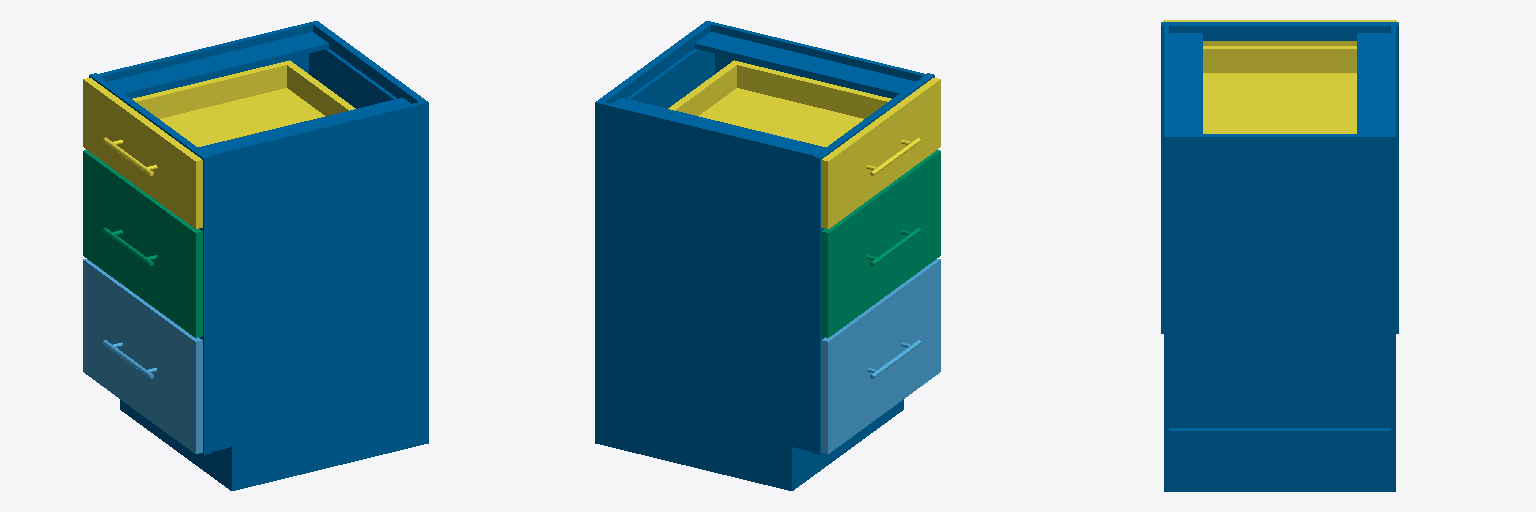
URDF robot description (partnet_1d973f05e870af4b4da5feafe6f1c8fc):
<?xml version="1.0" ?>
<robot name="partnet_1d973f05e870af4b4da5feafe6f1c8fc">
	<link name="base"/>
	<link name="link_0">
		<visual name="drawer_front-31">
			<origin xyz="0 0 0"/>
			<geometry>
				<mesh filename="textured_objs/original-26.obj"/>
			</geometry>
		</visual>
		<visual name="drawer_front-31">
			<origin xyz="0 0 0"/>
			<geometry>
				<mesh filename="textured_objs/original-38.obj"/>
			</geometry>
		</visual>
		<visual name="drawer_side-32">
			<origin xyz="0 0 0"/>
			<geometry>
				<mesh filename="textured_objs/original-25.obj"/>
			</geometry>
		</visual>
		<visual name="drawer_side-33">
			<origin xyz="0 0 0"/>
			<geometry>
				<mesh filename="textured_objs/original-30.obj"/>
			</geometry>
		</visual>
		<visual name="drawer_back-34">
			<origin xyz="0 0 0"/>
			<geometry>
				<mesh filename="textured_objs/original-31.obj"/>
			</geometry>
		</visual>
		<visual name="drawer_bottom-35">
			<origin xyz="0 0 0"/>
			<geometry>
				<mesh filename="textured_objs/original-28.obj"/>
			</geometry>
		</visual>
		<visual name="drawer_bottom-35">
			<origin xyz="0 0 0"/>
			<geometry>
				<mesh filename="textured_objs/original-29.obj"/>
			</geometry>
		</visual>
		<visual name="other_leaf-30">
			<origin xyz="0 0 0"/>
			<geometry>
				<mesh filename="textured_objs/original-32.obj"/>
			</geometry>
		</visual>
		<visual name="handle-27">
			<origin xyz="0 0 0"/>
			<geometry>
				<mesh filename="textured_objs/original-35.obj"/>
			</geometry>
		</visual>
		<visual name="handle-27">
			<origin xyz="0 0 0"/>
			<geometry>
				<mesh filename="textured_objs/original-36.obj"/>
			</geometry>
		</visual>
		<visual name="handle-27">
			<origin xyz="0 0 0"/>
			<geometry>
				<mesh filename="textured_objs/original-37.obj"/>
			</geometry>
		</visual>
		<collision>
			<origin xyz="0 0 0"/>
			<geometry>
				<mesh filename="textured_objs/original-26.obj"/>
			</geometry>
		</collision>
		<collision>
			<origin xyz="0 0 0"/>
			<geometry>
				<mesh filename="textured_objs/original-38.obj"/>
			</geometry>
		</collision>
		<collision>
			<origin xyz="0 0 0"/>
			<geometry>
				<mesh filename="textured_objs/original-25.obj"/>
			</geometry>
		</collision>
		<collision>
			<origin xyz="0 0 0"/>
			<geometry>
				<mesh filename="textured_objs/original-30.obj"/>
			</geometry>
		</collision>
		<collision>
			<origin xyz="0 0 0"/>
			<geometry>
				<mesh filename="textured_objs/original-31.obj"/>
			</geometry>
		</collision>
		<collision>
			<origin xyz="0 0 0"/>
			<geometry>
				<mesh filename="textured_objs/original-28.obj"/>
			</geometry>
		</collision>
		<collision>
			<origin xyz="0 0 0"/>
			<geometry>
				<mesh filename="textured_objs/original-29.obj"/>
			</geometry>
		</collision>
		<collision>
			<origin xyz="0 0 0"/>
			<geometry>
				<mesh filename="textured_objs/original-37.obj"/>
			</geometry>
		</collision>
		<collision>
			<origin xyz="0 0 0"/>
			<geometry>
				<mesh filename="textured_objs/original-35.obj"/>
			</geometry>
		</collision>
		<collision>
			<origin xyz="0 0 0"/>
			<geometry>
				<mesh filename="textured_objs/original-36.obj"/>
			</geometry>
		</collision>
		<collision>
			<origin xyz="0 0 0"/>
			<geometry>
				<mesh filename="textured_objs/original-32.obj"/>
			</geometry>
		</collision>
	</link>
	<joint name="joint_0" type="prismatic">
		<origin xyz="0 0 0"/>
		<axis xyz="0 0 1"/>
		<child link="link_0"/>
		<parent link="link_3"/>
		<limit lower="0" upper="0.7"/>
	</joint>
	<link name="link_1">
		<visual name="drawer_front-21">
			<origin xyz="0 0 0"/>
			<geometry>
				<mesh filename="textured_objs/original-54.obj"/>
			</geometry>
		</visual>
		<visual name="drawer_front-21">
			<origin xyz="0 0 0"/>
			<geometry>
				<mesh filename="textured_objs/original-42.obj"/>
			</geometry>
		</visual>
		<visual name="drawer_side-22">
			<origin xyz="0 0 0"/>
			<geometry>
				<mesh filename="textured_objs/original-41.obj"/>
			</geometry>
		</visual>
		<visual name="drawer_side-23">
			<origin xyz="0 0 0"/>
			<geometry>
				<mesh filename="textured_objs/original-46.obj"/>
			</geometry>
		</visual>
		<visual name="drawer_back-24">
			<origin xyz="0 0 0"/>
			<geometry>
				<mesh filename="textured_objs/original-47.obj"/>
			</geometry>
		</visual>
		<visual name="drawer_bottom-25">
			<origin xyz="0 0 0"/>
			<geometry>
				<mesh filename="textured_objs/original-45.obj"/>
			</geometry>
		</visual>
		<visual name="drawer_bottom-25">
			<origin xyz="0 0 0"/>
			<geometry>
				<mesh filename="textured_objs/original-44.obj"/>
			</geometry>
		</visual>
		<visual name="other_leaf-20">
			<origin xyz="0 0 0"/>
			<geometry>
				<mesh filename="textured_objs/original-48.obj"/>
			</geometry>
		</visual>
		<visual name="handle-18">
			<origin xyz="0 0 0"/>
			<geometry>
				<mesh filename="textured_objs/original-51.obj"/>
			</geometry>
		</visual>
		<visual name="handle-18">
			<origin xyz="0 0 0"/>
			<geometry>
				<mesh filename="textured_objs/original-52.obj"/>
			</geometry>
		</visual>
		<visual name="handle-18">
			<origin xyz="0 0 0"/>
			<geometry>
				<mesh filename="textured_objs/original-53.obj"/>
			</geometry>
		</visual>
		<collision>
			<origin xyz="0 0 0"/>
			<geometry>
				<mesh filename="textured_objs/original-54.obj"/>
			</geometry>
		</collision>
		<collision>
			<origin xyz="0 0 0"/>
			<geometry>
				<mesh filename="textured_objs/original-42.obj"/>
			</geometry>
		</collision>
		<collision>
			<origin xyz="0 0 0"/>
			<geometry>
				<mesh filename="textured_objs/original-41.obj"/>
			</geometry>
		</collision>
		<collision>
			<origin xyz="0 0 0"/>
			<geometry>
				<mesh filename="textured_objs/original-46.obj"/>
			</geometry>
		</collision>
		<collision>
			<origin xyz="0 0 0"/>
			<geometry>
				<mesh filename="textured_objs/original-47.obj"/>
			</geometry>
		</collision>
		<collision>
			<origin xyz="0 0 0"/>
			<geometry>
				<mesh filename="textured_objs/original-45.obj"/>
			</geometry>
		</collision>
		<collision>
			<origin xyz="0 0 0"/>
			<geometry>
				<mesh filename="textured_objs/original-44.obj"/>
			</geometry>
		</collision>
		<collision>
			<origin xyz="0 0 0"/>
			<geometry>
				<mesh filename="textured_objs/original-53.obj"/>
			</geometry>
		</collision>
		<collision>
			<origin xyz="0 0 0"/>
			<geometry>
				<mesh filename="textured_objs/original-51.obj"/>
			</geometry>
		</collision>
		<collision>
			<origin xyz="0 0 0"/>
			<geometry>
				<mesh filename="textured_objs/original-52.obj"/>
			</geometry>
		</collision>
		<collision>
			<origin xyz="0 0 0"/>
			<geometry>
				<mesh filename="textured_objs/original-48.obj"/>
			</geometry>
		</collision>
	</link>
	<joint name="joint_1" type="prismatic">
		<origin xyz="0 0 0"/>
		<axis xyz="0 0 1"/>
		<child link="link_1"/>
		<parent link="link_3"/>
		<limit lower="0" upper="0.7"/>
	</joint>
	<link name="link_2">
		<visual name="drawer_side-10">
			<origin xyz="0 0 0"/>
			<geometry>
				<mesh filename="textured_objs/original-57.obj"/>
			</geometry>
		</visual>
		<visual name="drawer_side-11">
			<origin xyz="0 0 0"/>
			<geometry>
				<mesh filename="textured_objs/original-62.obj"/>
			</geometry>
		</visual>
		<visual name="drawer_back-12">
			<origin xyz="0 0 0"/>
			<geometry>
				<mesh filename="textured_objs/original-63.obj"/>
			</geometry>
		</visual>
		<visual name="drawer_bottom-13">
			<origin xyz="0 0 0"/>
			<geometry>
				<mesh filename="textured_objs/original-61.obj"/>
			</geometry>
		</visual>
		<visual name="drawer_bottom-13">
			<origin xyz="0 0 0"/>
			<geometry>
				<mesh filename="textured_objs/original-60.obj"/>
			</geometry>
		</visual>
		<visual name="drawer_front-14">
			<origin xyz="0 0 0"/>
			<geometry>
				<mesh filename="textured_objs/original-70.obj"/>
			</geometry>
		</visual>
		<visual name="drawer_front-14">
			<origin xyz="0 0 0"/>
			<geometry>
				<mesh filename="textured_objs/original-58.obj"/>
			</geometry>
		</visual>
		<visual name="other_leaf-16">
			<origin xyz="0 0 0"/>
			<geometry>
				<mesh filename="textured_objs/original-64.obj"/>
			</geometry>
		</visual>
		<visual name="handle-8">
			<origin xyz="0 0 0"/>
			<geometry>
				<mesh filename="textured_objs/original-67.obj"/>
			</geometry>
		</visual>
		<visual name="handle-8">
			<origin xyz="0 0 0"/>
			<geometry>
				<mesh filename="textured_objs/original-68.obj"/>
			</geometry>
		</visual>
		<visual name="handle-8">
			<origin xyz="0 0 0"/>
			<geometry>
				<mesh filename="textured_objs/original-69.obj"/>
			</geometry>
		</visual>
		<collision>
			<origin xyz="0 0 0"/>
			<geometry>
				<mesh filename="textured_objs/original-57.obj"/>
			</geometry>
		</collision>
		<collision>
			<origin xyz="0 0 0"/>
			<geometry>
				<mesh filename="textured_objs/original-62.obj"/>
			</geometry>
		</collision>
		<collision>
			<origin xyz="0 0 0"/>
			<geometry>
				<mesh filename="textured_objs/original-63.obj"/>
			</geometry>
		</collision>
		<collision>
			<origin xyz="0 0 0"/>
			<geometry>
				<mesh filename="textured_objs/original-61.obj"/>
			</geometry>
		</collision>
		<collision>
			<origin xyz="0 0 0"/>
			<geometry>
				<mesh filename="textured_objs/original-60.obj"/>
			</geometry>
		</collision>
		<collision>
			<origin xyz="0 0 0"/>
			<geometry>
				<mesh filename="textured_objs/original-70.obj"/>
			</geometry>
		</collision>
		<collision>
			<origin xyz="0 0 0"/>
			<geometry>
				<mesh filename="textured_objs/original-58.obj"/>
			</geometry>
		</collision>
		<collision>
			<origin xyz="0 0 0"/>
			<geometry>
				<mesh filename="textured_objs/original-64.obj"/>
			</geometry>
		</collision>
		<collision>
			<origin xyz="0 0 0"/>
			<geometry>
				<mesh filename="textured_objs/original-69.obj"/>
			</geometry>
		</collision>
		<collision>
			<origin xyz="0 0 0"/>
			<geometry>
				<mesh filename="textured_objs/original-67.obj"/>
			</geometry>
		</collision>
		<collision>
			<origin xyz="0 0 0"/>
			<geometry>
				<mesh filename="textured_objs/original-68.obj"/>
			</geometry>
		</collision>
	</link>
	<joint name="joint_2" type="prismatic">
		<origin xyz="0 0 0"/>
		<axis xyz="0 0 1"/>
		<child link="link_2"/>
		<parent link="link_3"/>
		<limit lower="0" upper="0.7"/>
	</joint>
	<link name="link_3">
		<visual name="vertical_side_panel-41">
			<origin xyz="0 0 0"/>
			<geometry>
				<mesh filename="textured_objs/original-15.obj"/>
			</geometry>
		</visual>
		<visual name="vertical_side_panel-41">
			<origin xyz="0 0 0"/>
			<geometry>
				<mesh filename="textured_objs/original-14.obj"/>
			</geometry>
		</visual>
		<visual name="vertical_side_panel-42">
			<origin xyz="0 0 0"/>
			<geometry>
				<mesh filename="textured_objs/original-11.obj"/>
			</geometry>
		</visual>
		<visual name="vertical_side_panel-42">
			<origin xyz="0 0 0"/>
			<geometry>
				<mesh filename="textured_objs/original-10.obj"/>
			</geometry>
		</visual>
		<visual name="back_panel-43">
			<origin xyz="0 0 0"/>
			<geometry>
				<mesh filename="textured_objs/original-5.obj"/>
			</geometry>
		</visual>
		<visual name="bottom_panel-44">
			<origin xyz="0 0 0"/>
			<geometry>
				<mesh filename="textured_objs/original-2.obj"/>
			</geometry>
		</visual>
		<visual name="frame_vertical_bar-45">
			<origin xyz="0 0 0"/>
			<geometry>
				<mesh filename="textured_objs/original-3.obj"/>
			</geometry>
		</visual>
		<visual name="frame_vertical_bar-46">
			<origin xyz="0 0 0"/>
			<geometry>
				<mesh filename="textured_objs/original-7.obj"/>
			</geometry>
		</visual>
		<visual name="frame_horizontal_bar-47">
			<origin xyz="0 0 0"/>
			<geometry>
				<mesh filename="textured_objs/original-4.obj"/>
			</geometry>
		</visual>
		<visual name="frame_horizontal_bar-48">
			<origin xyz="0 0 0"/>
			<geometry>
				<mesh filename="textured_objs/original-6.obj"/>
			</geometry>
		</visual>
		<visual name="frame_horizontal_bar-49">
			<origin xyz="0 0 0"/>
			<geometry>
				<mesh filename="textured_objs/original-8.obj"/>
			</geometry>
		</visual>
		<visual name="frame_horizontal_bar-50">
			<origin xyz="0 0 0"/>
			<geometry>
				<mesh filename="textured_objs/original-22.obj"/>
			</geometry>
		</visual>
		<visual name="frame_horizontal_bar-51">
			<origin xyz="0 0 0"/>
			<geometry>
				<mesh filename="textured_objs/original-17.obj"/>
			</geometry>
		</visual>
		<visual name="frame_horizontal_bar-52">
			<origin xyz="0 0 0"/>
			<geometry>
				<mesh filename="textured_objs/original-21.obj"/>
			</geometry>
		</visual>
		<visual name="frame_horizontal_bar-53">
			<origin xyz="0 0 0"/>
			<geometry>
				<mesh filename="textured_objs/original-20.obj"/>
			</geometry>
		</visual>
		<visual name="other_leaf-56">
			<origin xyz="0 0 0"/>
			<geometry>
				<mesh filename="textured_objs/original-71.obj"/>
			</geometry>
		</visual>
		<visual name="base_side_panel-37">
			<origin xyz="0 0 0"/>
			<geometry>
				<mesh filename="textured_objs/original-16.obj"/>
			</geometry>
		</visual>
		<visual name="base_side_panel-38">
			<origin xyz="0 0 0"/>
			<geometry>
				<mesh filename="textured_objs/original-18.obj"/>
			</geometry>
		</visual>
		<visual name="base_side_panel-39">
			<origin xyz="0 0 0"/>
			<geometry>
				<mesh filename="textured_objs/original-12.obj"/>
			</geometry>
		</visual>
		<visual name="base_side_panel-40">
			<origin xyz="0 0 0"/>
			<geometry>
				<mesh filename="textured_objs/original-19.obj"/>
			</geometry>
		</visual>
		<collision>
			<origin xyz="0 0 0"/>
			<geometry>
				<mesh filename="textured_objs/original-15.obj"/>
			</geometry>
		</collision>
		<collision>
			<origin xyz="0 0 0"/>
			<geometry>
				<mesh filename="textured_objs/original-14.obj"/>
			</geometry>
		</collision>
		<collision>
			<origin xyz="0 0 0"/>
			<geometry>
				<mesh filename="textured_objs/original-11.obj"/>
			</geometry>
		</collision>
		<collision>
			<origin xyz="0 0 0"/>
			<geometry>
				<mesh filename="textured_objs/original-10.obj"/>
			</geometry>
		</collision>
		<collision>
			<origin xyz="0 0 0"/>
			<geometry>
				<mesh filename="textured_objs/original-5.obj"/>
			</geometry>
		</collision>
		<collision>
			<origin xyz="0 0 0"/>
			<geometry>
				<mesh filename="textured_objs/original-2.obj"/>
			</geometry>
		</collision>
		<collision>
			<origin xyz="0 0 0"/>
			<geometry>
				<mesh filename="textured_objs/original-3.obj"/>
			</geometry>
		</collision>
		<collision>
			<origin xyz="0 0 0"/>
			<geometry>
				<mesh filename="textured_objs/original-7.obj"/>
			</geometry>
		</collision>
		<collision>
			<origin xyz="0 0 0"/>
			<geometry>
				<mesh filename="textured_objs/original-4.obj"/>
			</geometry>
		</collision>
		<collision>
			<origin xyz="0 0 0"/>
			<geometry>
				<mesh filename="textured_objs/original-6.obj"/>
			</geometry>
		</collision>
		<collision>
			<origin xyz="0 0 0"/>
			<geometry>
				<mesh filename="textured_objs/original-8.obj"/>
			</geometry>
		</collision>
		<collision>
			<origin xyz="0 0 0"/>
			<geometry>
				<mesh filename="textured_objs/original-22.obj"/>
			</geometry>
		</collision>
		<collision>
			<origin xyz="0 0 0"/>
			<geometry>
				<mesh filename="textured_objs/original-17.obj"/>
			</geometry>
		</collision>
		<collision>
			<origin xyz="0 0 0"/>
			<geometry>
				<mesh filename="textured_objs/original-21.obj"/>
			</geometry>
		</collision>
		<collision>
			<origin xyz="0 0 0"/>
			<geometry>
				<mesh filename="textured_objs/original-20.obj"/>
			</geometry>
		</collision>
		<collision>
			<origin xyz="0 0 0"/>
			<geometry>
				<mesh filename="textured_objs/original-71.obj"/>
			</geometry>
		</collision>
		<collision>
			<origin xyz="0 0 0"/>
			<geometry>
				<mesh filename="textured_objs/original-16.obj"/>
			</geometry>
		</collision>
		<collision>
			<origin xyz="0 0 0"/>
			<geometry>
				<mesh filename="textured_objs/original-18.obj"/>
			</geometry>
		</collision>
		<collision>
			<origin xyz="0 0 0"/>
			<geometry>
				<mesh filename="textured_objs/original-12.obj"/>
			</geometry>
		</collision>
		<collision>
			<origin xyz="0 0 0"/>
			<geometry>
				<mesh filename="textured_objs/original-19.obj"/>
			</geometry>
		</collision>
	</link>
	<joint name="joint_3" type="fixed">
		<origin rpy="1.570796326794897 0 -1.570796326794897" xyz="0 0 0"/>
		<child link="link_3"/>
		<parent link="base"/>
	</joint>
</robot>

--- Facts derived from the render (not from the file) ---
Views: 3 orthographic renders of the robot side by side, from view 1: azimuth 30°, elevation 25°; view 2: azimuth 150°, elevation 25°; view 3: azimuth 270°, elevation 25°.
Robot: partnet_1d973f05e870af4b4da5feafe6f1c8fc — 5 links, 4 joints (3 prismatic, 1 fixed); root link base; default pose: all joints at 0.
Links seen in each view (by area): view 1: link_3, link_2, link_0, link_1; view 2: link_3, link_2, link_0, link_1; view 3: link_3, link_2.
Boxes of the visible links, x1,y1,x2,y2 form: link_3: (89,21,428,490); link_2: (83,60,355,228); link_0: (83,259,202,453); link_1: (83,150,202,337); link_3: (595,21,934,490); link_2: (668,60,940,228); link_0: (821,259,940,453); link_1: (821,150,940,337); link_3: (1161,22,1398,491); link_2: (1163,20,1396,133).
Size in the robot's own frame: 1.12 by 0.9008 by 1.48 metres.
53 mesh visuals loaded from 53 distinct referenced files (53 OBJ).